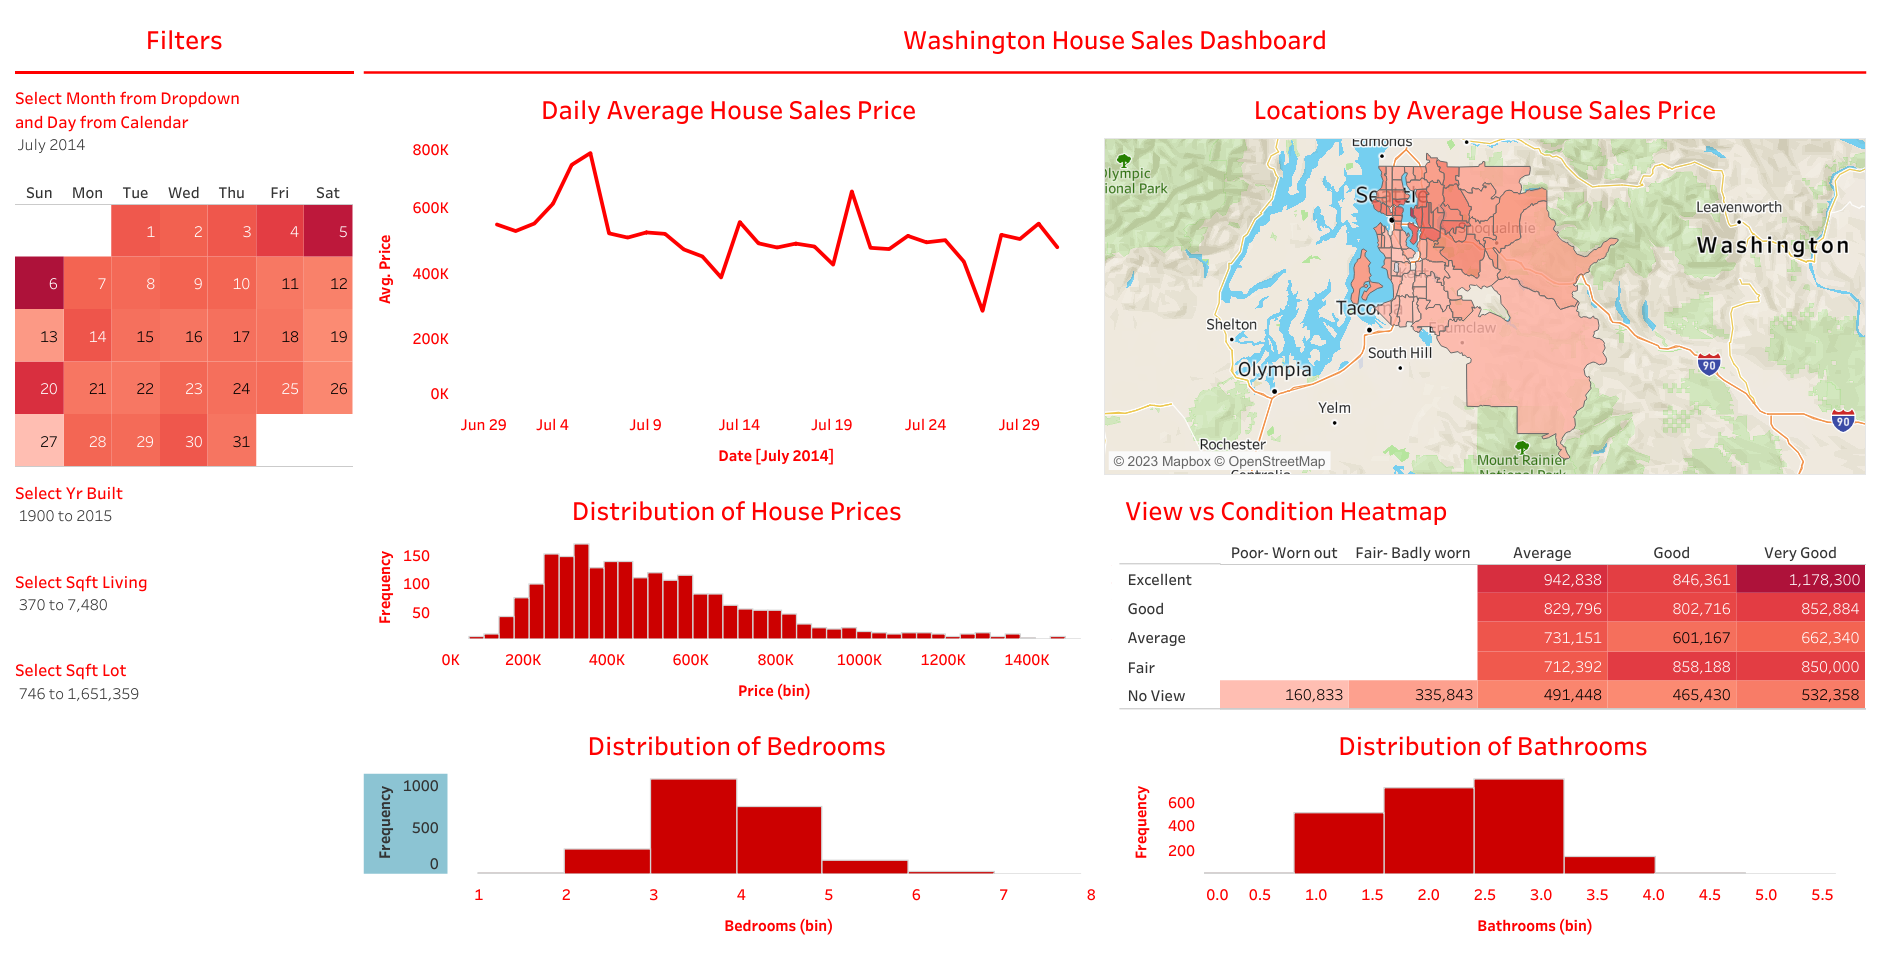

What the dashboard file says about the page in this screenshot:
{"tool":"tableau","page":{"name":"Washington House Sales Dashboard","canvas":[1000,1000],"units":"permille","ordinal":0},"visuals":[{"type":"text","box":[4.8,9.4,185.3,52.9]},{"type":"text","box":[190.1,9.4,805.1,52.9]},{"type":"blank","box":[4.8,62.3,185.3,11.8]},{"type":"blank","box":[190.1,62.3,805.1,11.8]},{"type":"filter","title":"Calendar","param":"[federated.0foaxlf0lbgpqr1025rwa110lffe].[my:date:ok]","box":[4.8,74,185.3,103.4]},{"type":"worksheet","title":"Line Chart","mark":"Automatic","rows":["price"],"cols":["date"],"box":[190.1,74,398,426]},{"type":"worksheet","title":"Map","mark":"Automatic","box":[588.1,74,407.1,426]},{"type":"worksheet","title":"Calendar","mark":"Square","rows":["date"],"cols":["date"],"box":[4.8,177.4,185.3,282]},{"type":"filter","title":"Calendar","param":"[federated.0foaxlf0lbgpqr1025rwa110lffe].[none:yr_built:qk]","box":[4.8,459.5,185.3,68.2]},{"type":"worksheet","title":"Hist House","mark":"Automatic","rows":["price"],"cols":["Price (bin)"],"box":[190.1,500,402.5,245.3]},{"type":"worksheet","title":"Heatmap","mark":"Square","rows":["view"],"cols":["condition"],"box":[592.6,500,402.5,245.3]},{"type":"filter","title":"Calendar","param":"[federated.0foaxlf0lbgpqr1025rwa110lffe].[none:sqft_living:qk]","box":[4.8,527.6,185.3,68.2]},{"type":"filter","title":"Calendar","param":"[federated.0foaxlf0lbgpqr1025rwa110lffe].[none:sqft_lot:qk]","box":[4.8,595.8,185.3,68.2]},{"type":"worksheet","title":"Hist Bedroom","mark":"Automatic","rows":["bedrooms"],"cols":["Bedrooms (bin)"],"box":[190.1,745.3,402.5,245.3]},{"type":"worksheet","title":"Hist Bathroom","mark":"Automatic","rows":["bathrooms"],"cols":["Bathrooms (bin)"],"box":[592.6,745.3,402.5,245.3]}]}

Visuals, with their boxes on the dashboard's canvas, which has no fixed pixel size, in thousandths of its width and height (x1, y1, x2, y2). These are canvas units, not pixel positions in the 1880x959 screenshot, which may show the page scaled, cropped or inside an application window:
text: 5,9,190,62
text: 190,9,995,62
blank: 5,62,190,74
blank: 190,62,995,74
"Calendar" filter: 5,74,190,177
"Line Chart" worksheet: 190,74,588,500
"Map" worksheet: 588,74,995,500
"Calendar" worksheet (Square marks): 5,177,190,459
"Calendar" filter: 5,460,190,528
"Hist House" worksheet: 190,500,593,745
"Heatmap" worksheet (Square marks): 593,500,995,745
"Calendar" filter: 5,528,190,596
"Calendar" filter: 5,596,190,664
"Hist Bedroom" worksheet: 190,745,593,991
"Hist Bathroom" worksheet: 593,745,995,991
